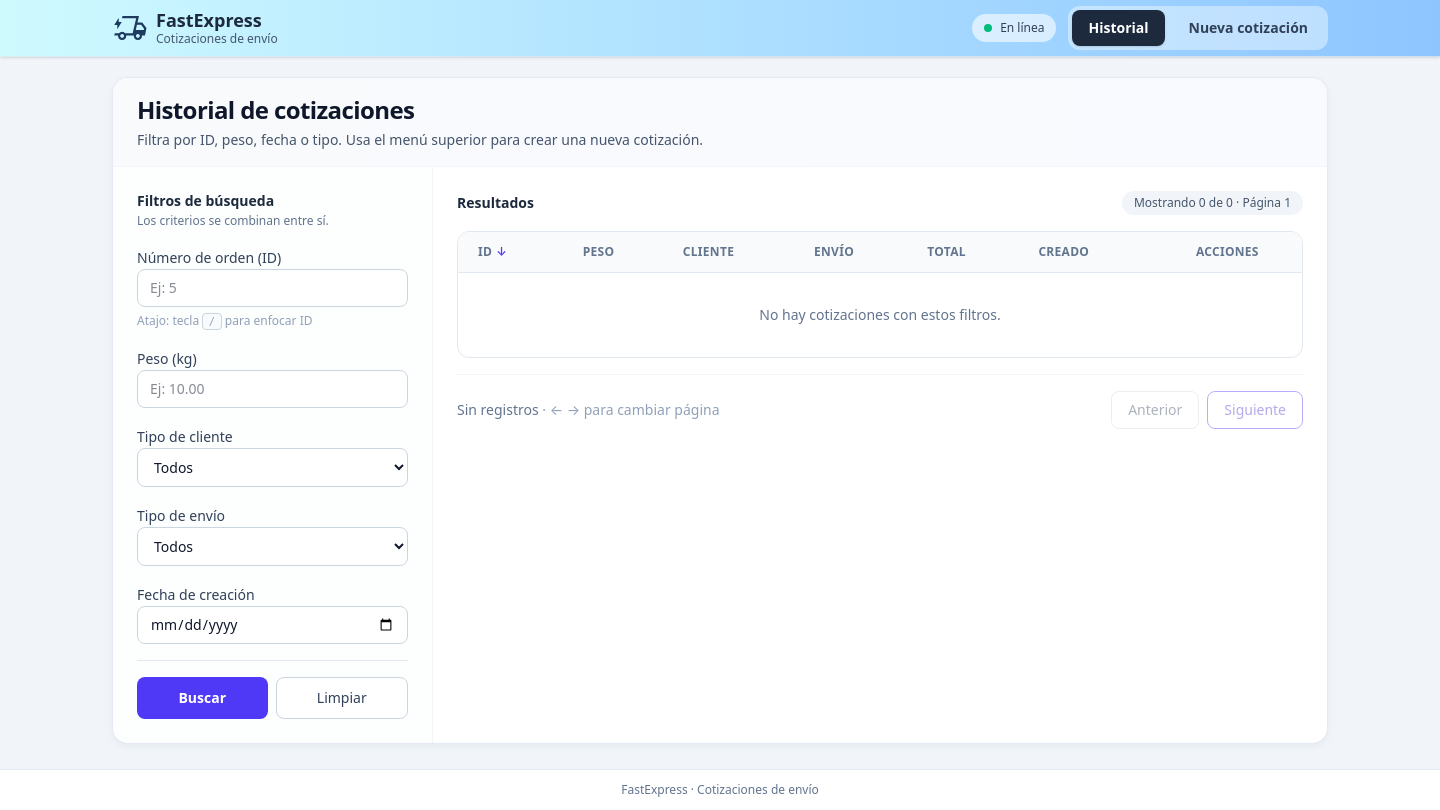
it: App (caja negra) › usuario ve historial por defecto y puede ir a nueva cotización
Check: the heading "Historial de cotizaciones" is shown, box [137,93,414,126]
Click the button "Nueva cotización".
click(1248, 28)  # box [1172,10,1324,46]
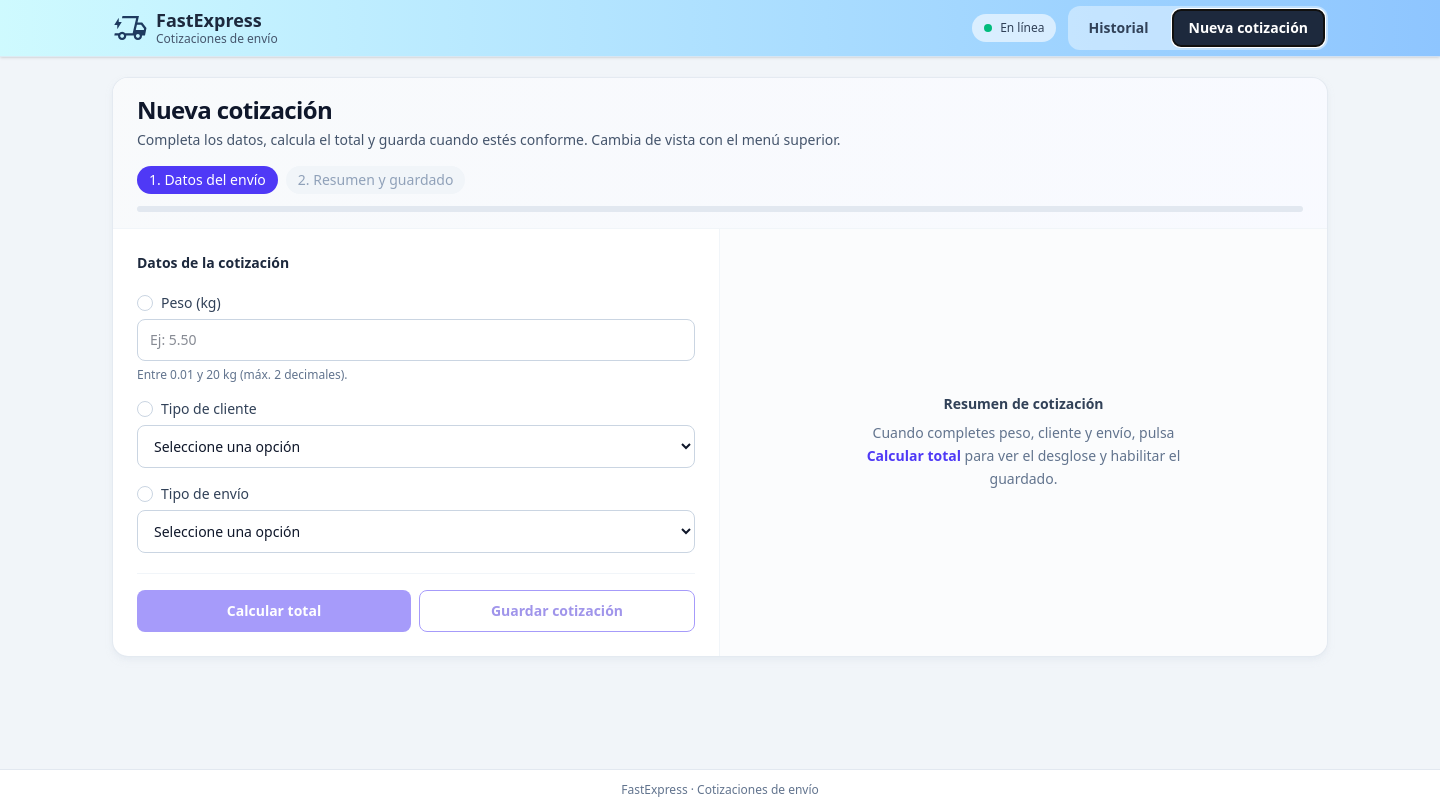
Check: the number field labelled "✓ Peso (kg)" is shown, box [137,319,695,361]
Check: the heading "Nueva cotización" is shown, box [137,93,332,126]
